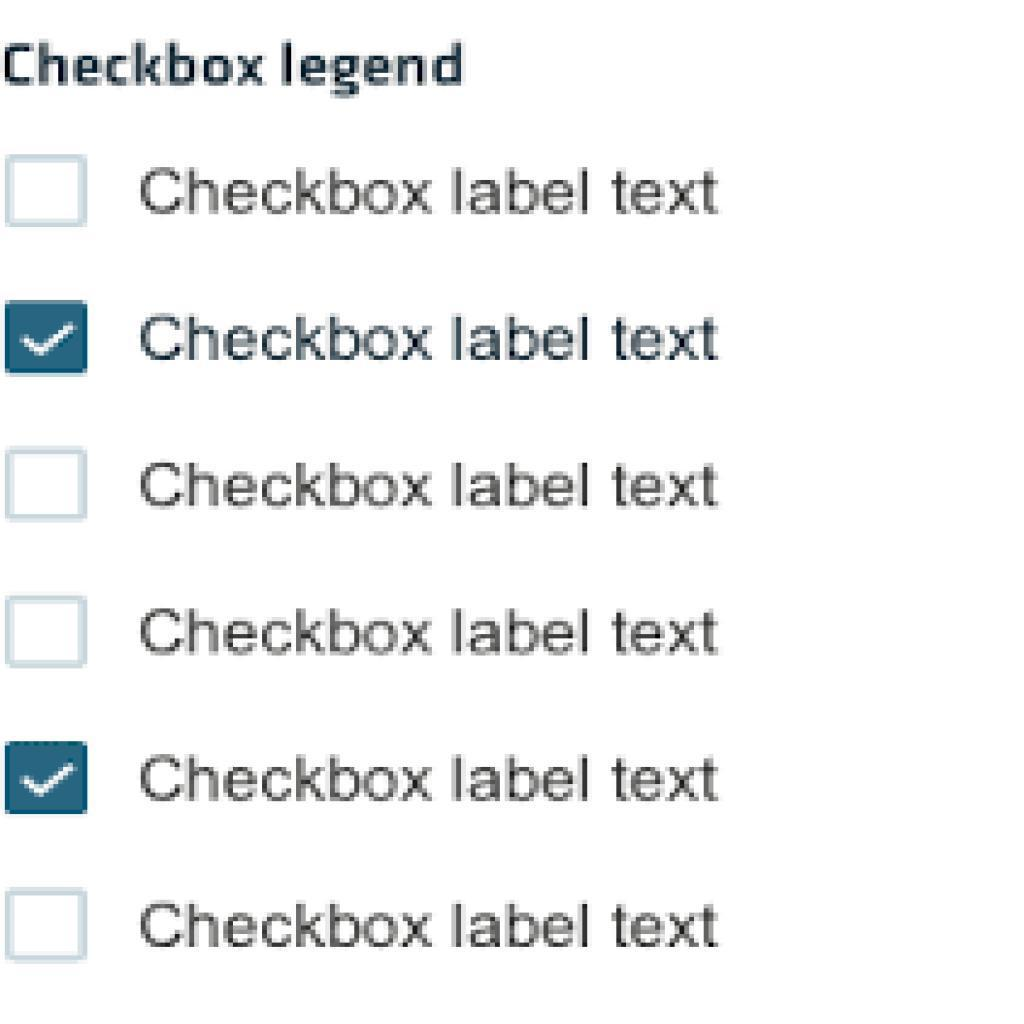checkbox: (7, 302, 89, 374), (7, 890, 87, 963), (5, 743, 88, 813), (10, 156, 88, 225), (8, 450, 85, 518), (11, 598, 87, 665)
label: (141, 307, 724, 368), (142, 162, 721, 223), (142, 605, 722, 661), (140, 458, 723, 512), (138, 752, 725, 805), (140, 900, 723, 951), (7, 41, 465, 101)
